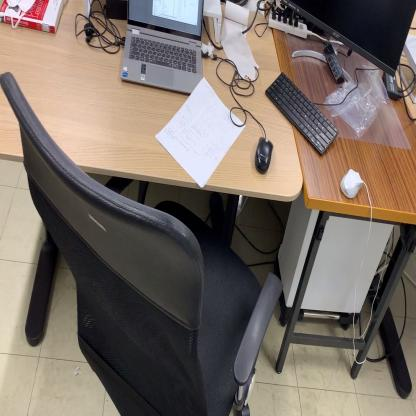chair: (1, 69, 281, 412)
